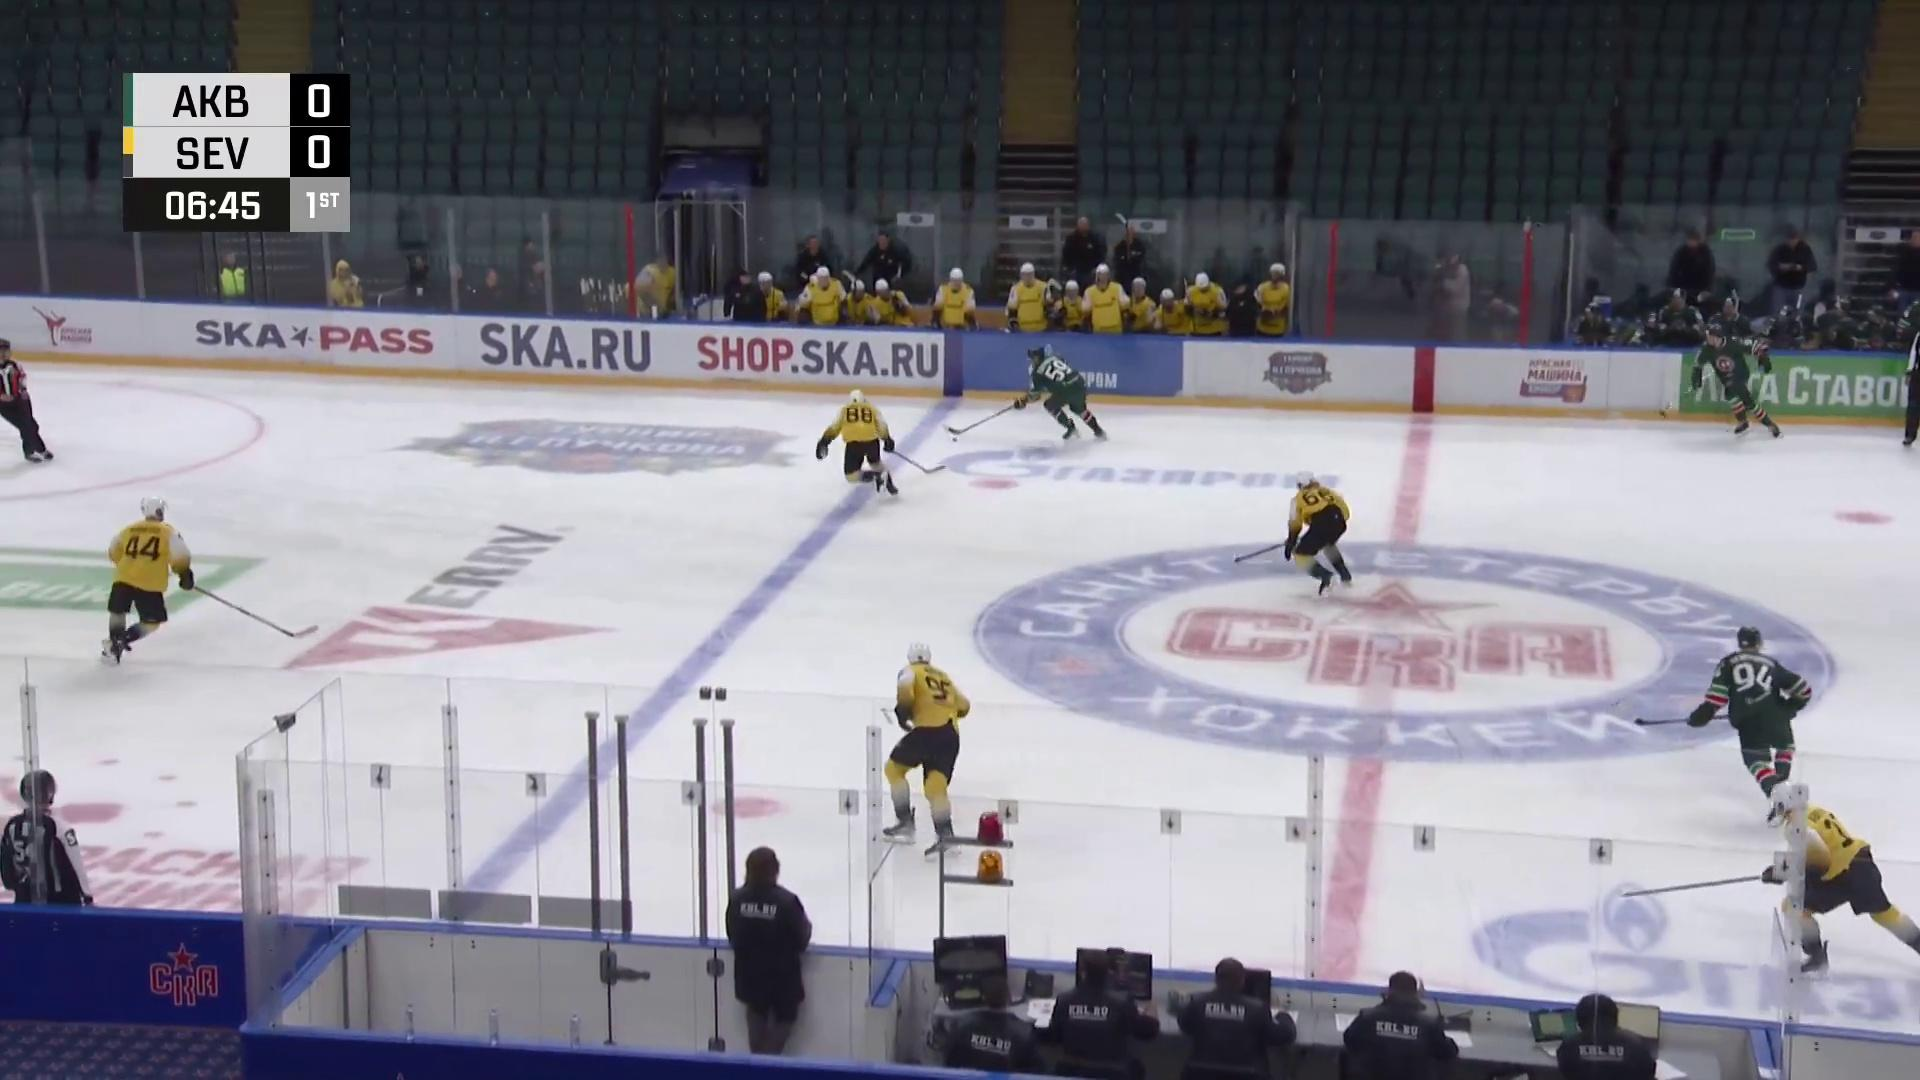ball: (952, 438, 959, 443)
